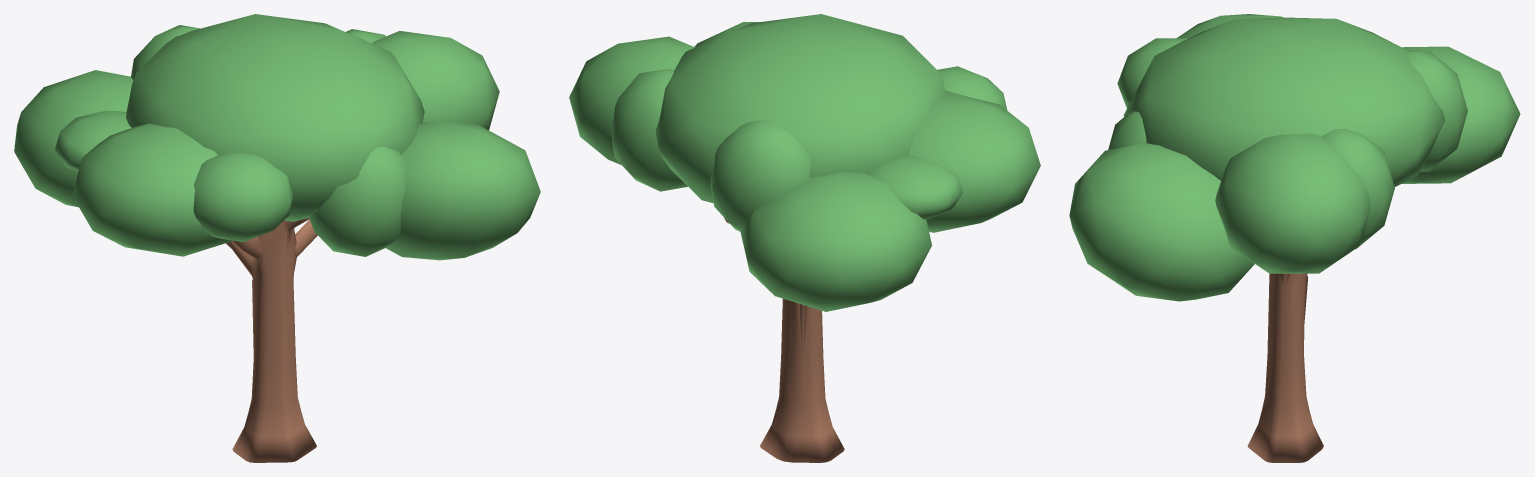
File: Tree.fbx
3 renders of one model, left to right at view 1: azimuth 30°, elevation 25°; view 2: azimuth 150°, elevation 25°; view 3: azimuth 270°, elevation 25°, orthographic.
Visible parts, largest first — view 1: Icosphere, Icosphere.003, Icosphere.004, Tree, Icosphere.002, Icosphere.001, Icosphere.008, Icosphere.009, Icosphere.007, Icosphere.006; view 2: Icosphere, Icosphere.002, Icosphere.004, Tree, Icosphere.006, Icosphere.001, Icosphere.005, Icosphere.007, Icosphere.008; view 3: Icosphere, Icosphere.003, Icosphere.001, Tree, Icosphere.002, Icosphere.005, Icosphere.006, Icosphere.008, Icosphere.009, Icosphere.004.
Boxes of the visible parts, <box> form: Icosphere: <box>126,14,424,221</box>; Icosphere.003: <box>386,120,540,260</box>; Icosphere.004: <box>72,123,233,256</box>; Tree: <box>226,218,317,462</box>; Icosphere.002: <box>14,70,133,207</box>; Icosphere.001: <box>372,31,499,130</box>; Icosphere.008: <box>193,152,293,242</box>; Icosphere.009: <box>308,146,406,256</box>; Icosphere.007: <box>55,110,131,171</box>; Icosphere.006: <box>131,25,199,79</box>; Icosphere: <box>655,14,945,203</box>; Icosphere.002: <box>740,172,931,311</box>; Icosphere.004: <box>909,90,1040,232</box>; Tree: <box>724,217,844,462</box>; Icosphere.006: <box>710,119,810,231</box>; Icosphere.001: <box>569,36,695,164</box>; Icosphere.005: <box>611,69,687,191</box>; Icosphere.007: <box>866,154,962,219</box>; Icosphere.008: <box>937,66,1007,110</box>; Icosphere: <box>1123,17,1445,186</box>; Icosphere.003: <box>1069,143,1254,301</box>; Icosphere.001: <box>1215,133,1370,273</box>; Tree: <box>1247,273,1323,462</box>; Icosphere.002: <box>1402,46,1520,183</box>; Icosphere.005: <box>1321,129,1394,248</box>; Icosphere.006: <box>1406,50,1467,171</box>; Icosphere.008: <box>1117,38,1188,108</box>; Icosphere.009: <box>1108,111,1146,149</box>; Icosphere.004: <box>1176,14,1283,38</box>.
Size of the model in its own units: 609 by 565 by 561.
